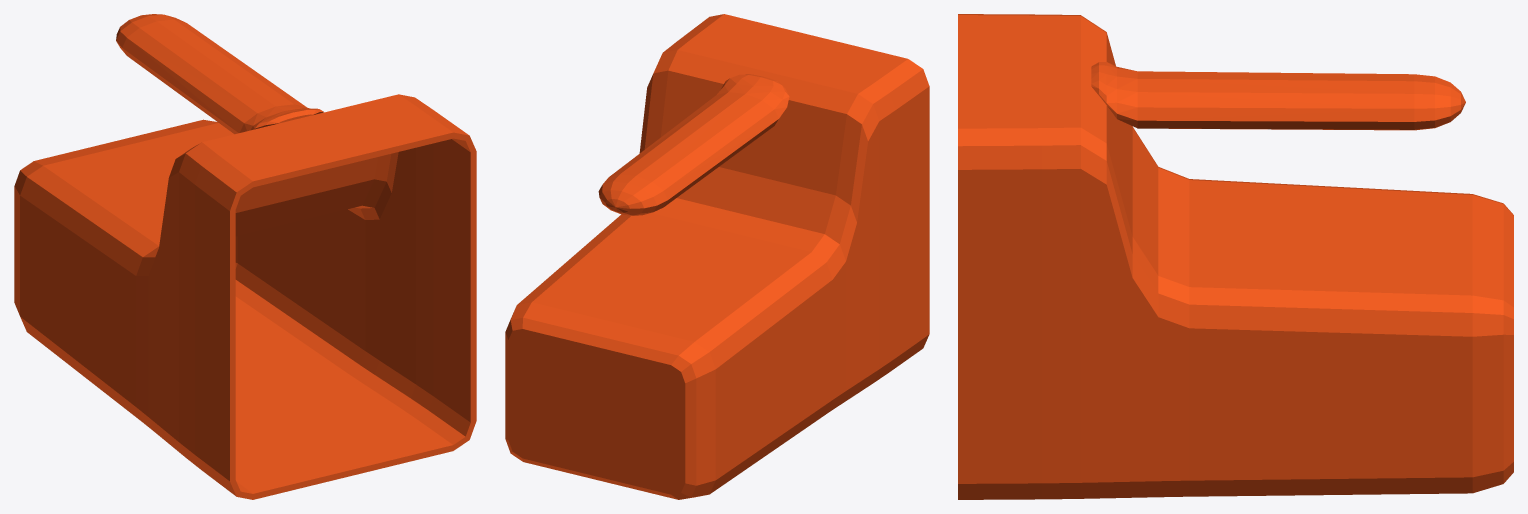
The picture shows the model from 3 angles, left to right: view 1: azimuth 30°, elevation 25°; view 2: azimuth 150°, elevation 25°; view 3: azimuth 270°, elevation 25°; orthographic projection. The views are drawn at different scales.
Visible parts, largest first — view 1: Joined_hollow_bailer; view 2: Joined_hollow_bailer; view 3: Joined_hollow_bailer.
Boxes of the visible parts, x1=… form: Joined_hollow_bailer: x1=14, y1=14, x2=476, y2=499; Joined_hollow_bailer: x1=505, y1=14, x2=929, y2=499; Joined_hollow_bailer: x1=958, y1=14, x2=1513, y2=499.
Size of the model in its own units: 0.128 by 0.158 by 0.215.
